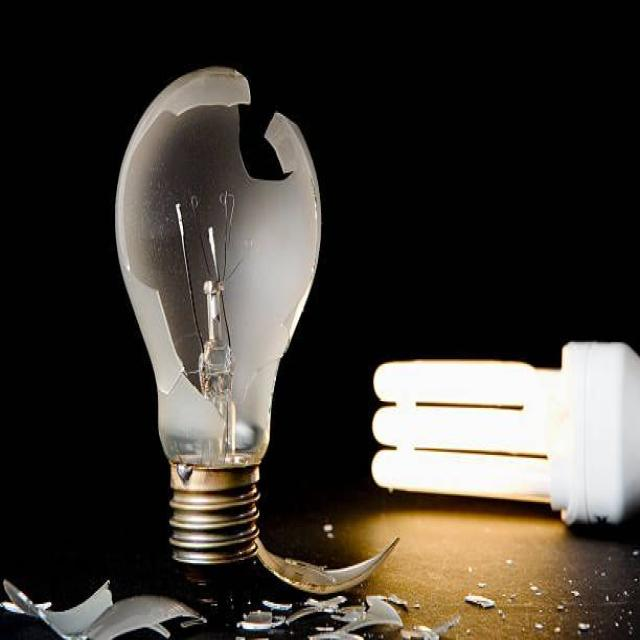electronic: (112, 63, 398, 593), (369, 339, 639, 527)
